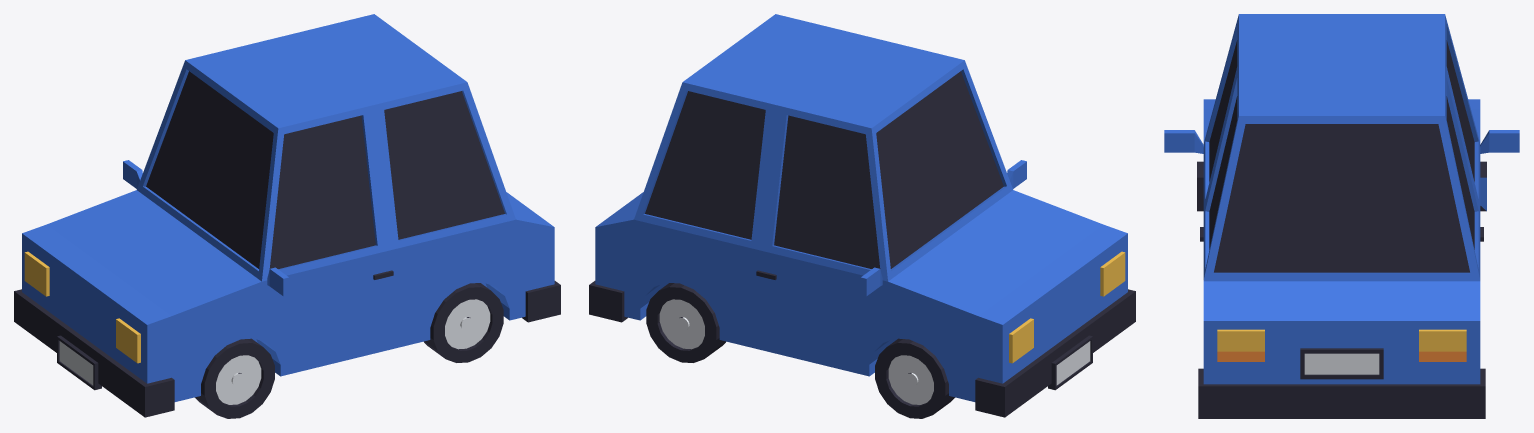
File: CeoAuto.fbx
The picture shows the model from 3 angles, left to right: view 1: azimuth 30°, elevation 25°; view 2: azimuth 150°, elevation 25°; view 3: azimuth 270°, elevation 25°; orthographic projection. The views are drawn at different scales.
Parts seen in each view (by area): view 1: Cube, Tocak, Tocak.001, Cube.002; view 2: Cube, Tocak, Tocak.001, Cube.002; view 3: Cube, Cube.005.
Boxes of the visible parts, <box> form: Cube: <box>14,14,560,417</box>; Tocak: <box>195,338,274,418</box>; Tocak.001: <box>424,283,503,362</box>; Cube.002: <box>24,251,140,390</box>; Cube: <box>589,14,1135,417</box>; Tocak: <box>875,338,954,418</box>; Tocak.001: <box>646,283,725,362</box>; Cube.002: <box>1009,251,1125,390</box>; Cube: <box>1164,14,1519,418</box>; Cube.005: <box>1217,329,1466,379</box>.
Size of the model in its own units: 388 by 234 by 256.
